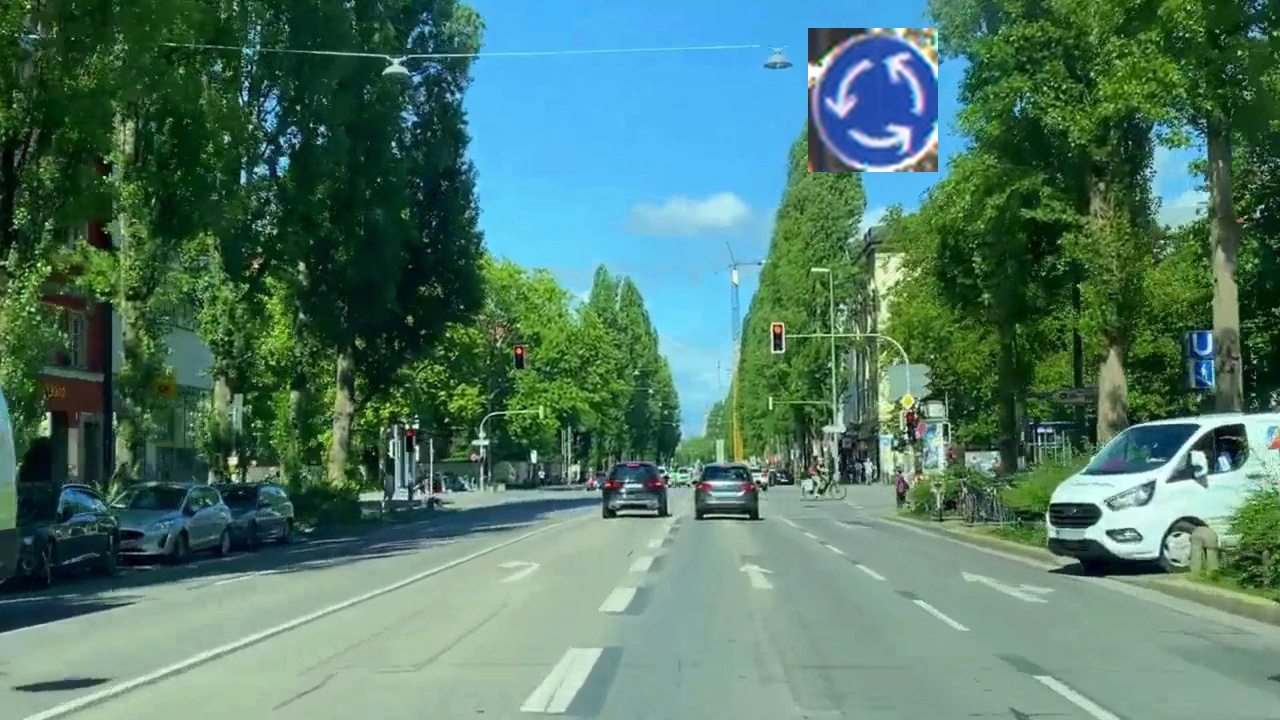Roundabout: (808, 28, 938, 172)
